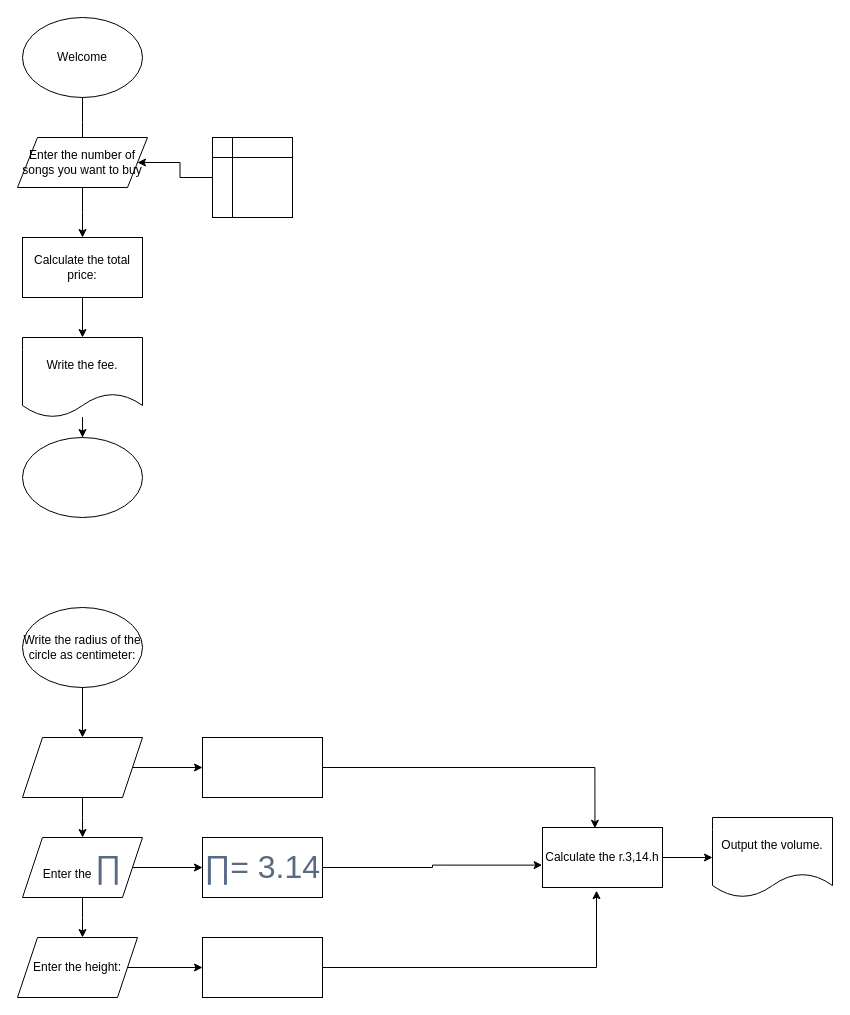
The diagram is 850 pixels wide and 1015 high, and some of its shapes have lost their labels. Here are the shapes that lost their labels. From the top down, the box of each, then its label:
(212, 136, 292, 218): Song Price:1 dollar/each
(22, 436, 142, 518): Exit
(22, 736, 142, 798): Write the radius:
(202, 736, 322, 798): radius= r
(202, 936, 322, 998): height= h
